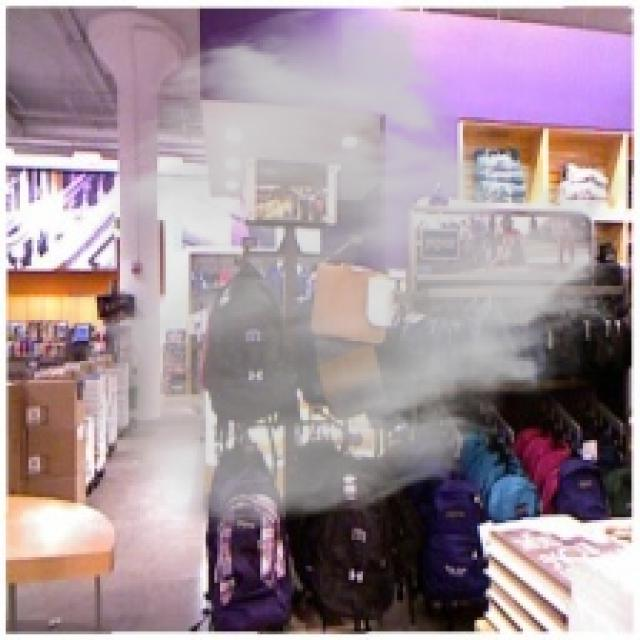smoke: (69, 3, 634, 540)
